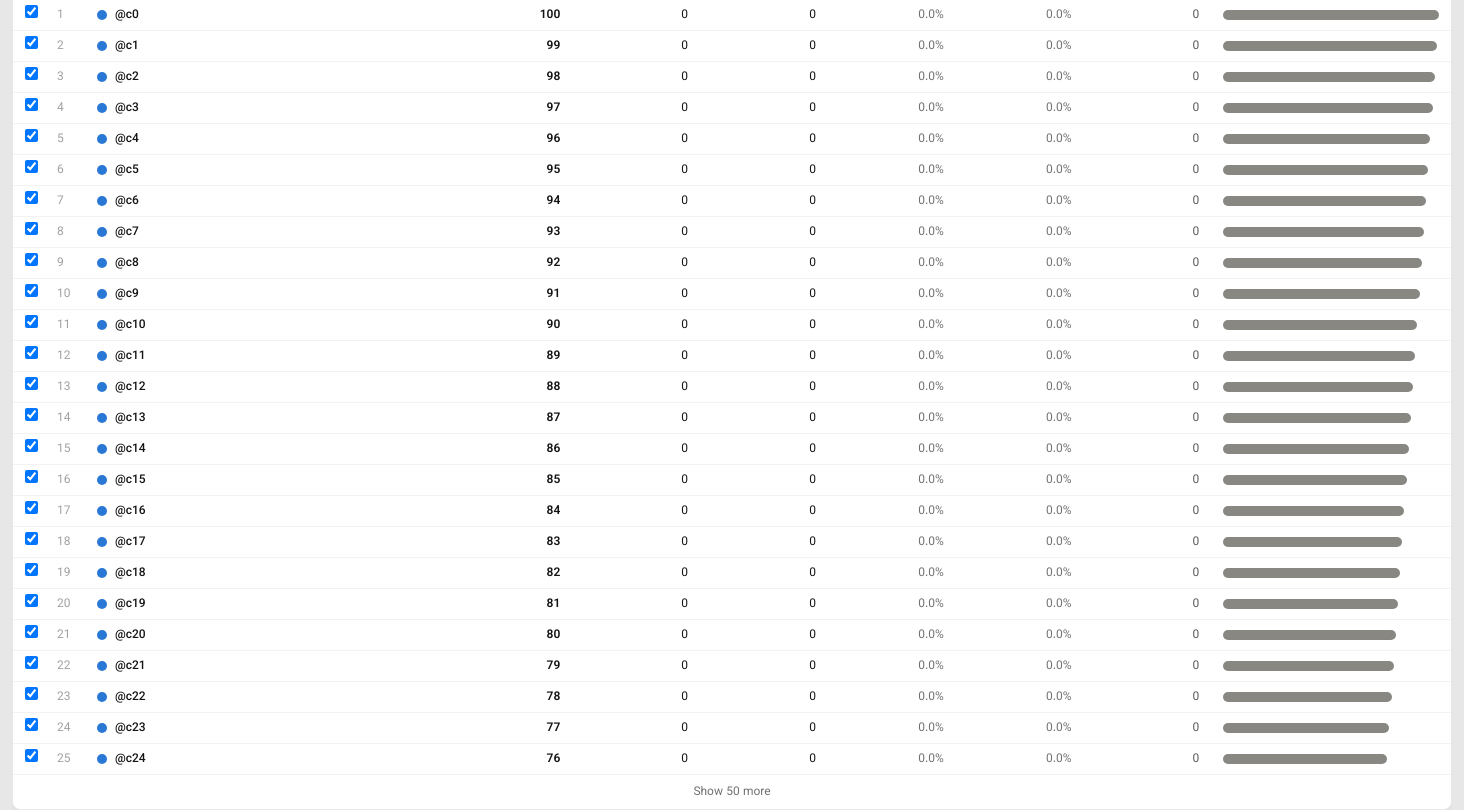
ChannelTable › shows 25 rows, then 50 more at a time
(page scrolled)
Click the button "Show 50 more". click: (732, 791)
box: [13,774,1451,808]
(page scrolled)
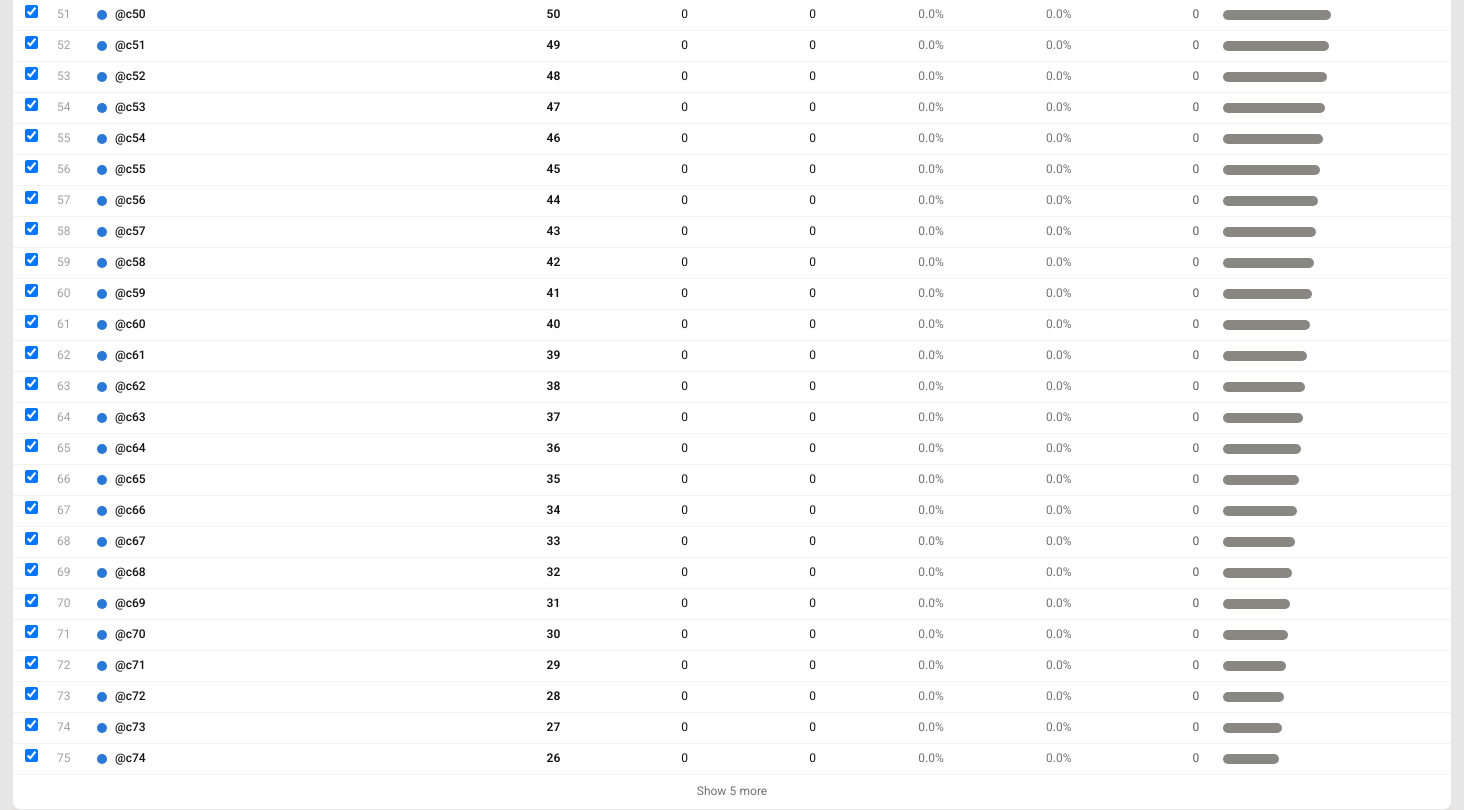
Click the button "Show 5 more". click: (732, 791)
box: [13,774,1451,808]
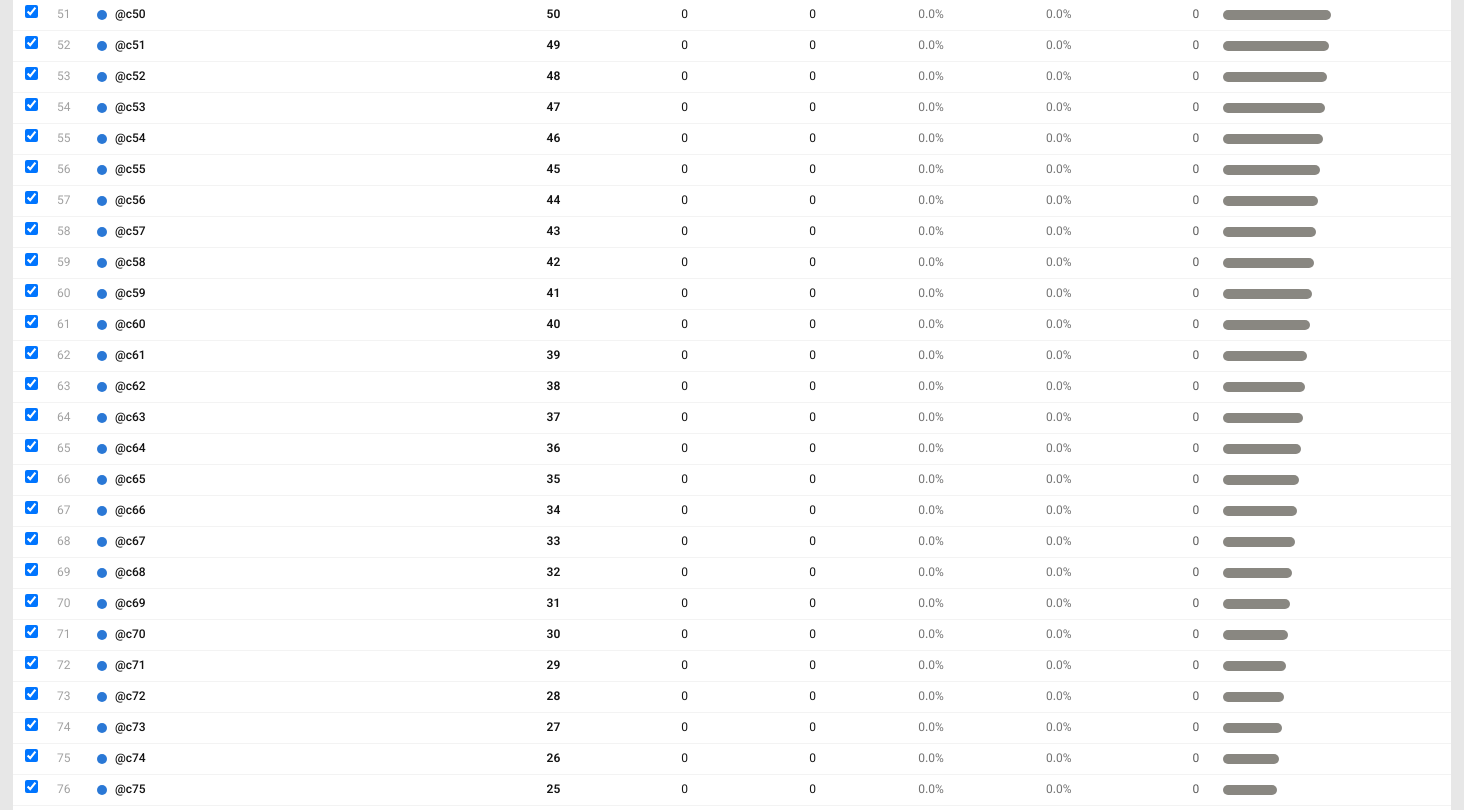
Expected: the button "more" is gone
